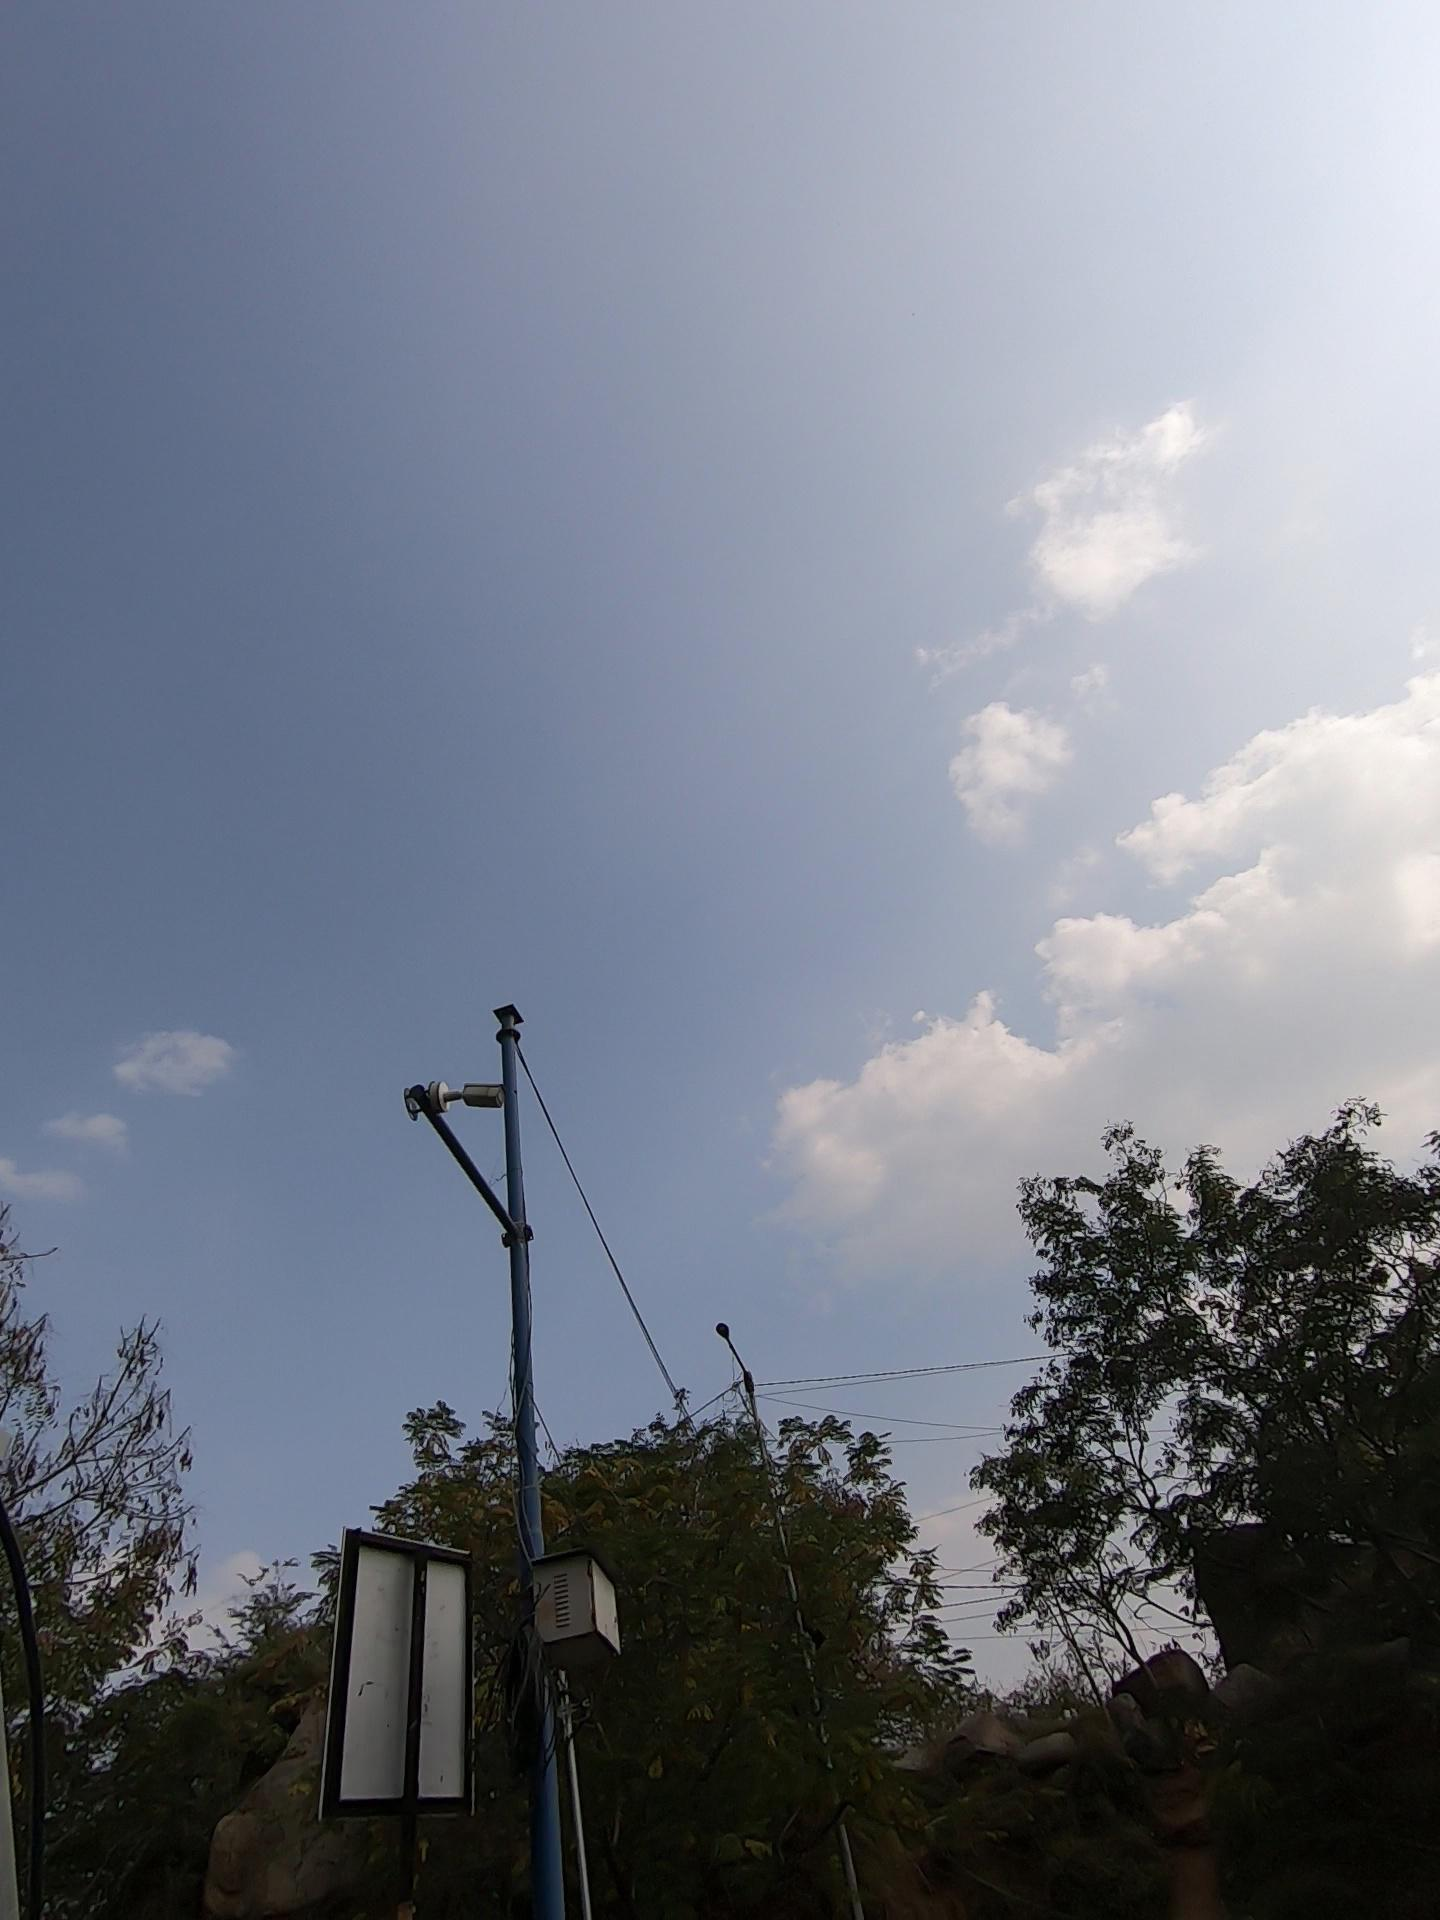off: (390, 971, 604, 1327)
